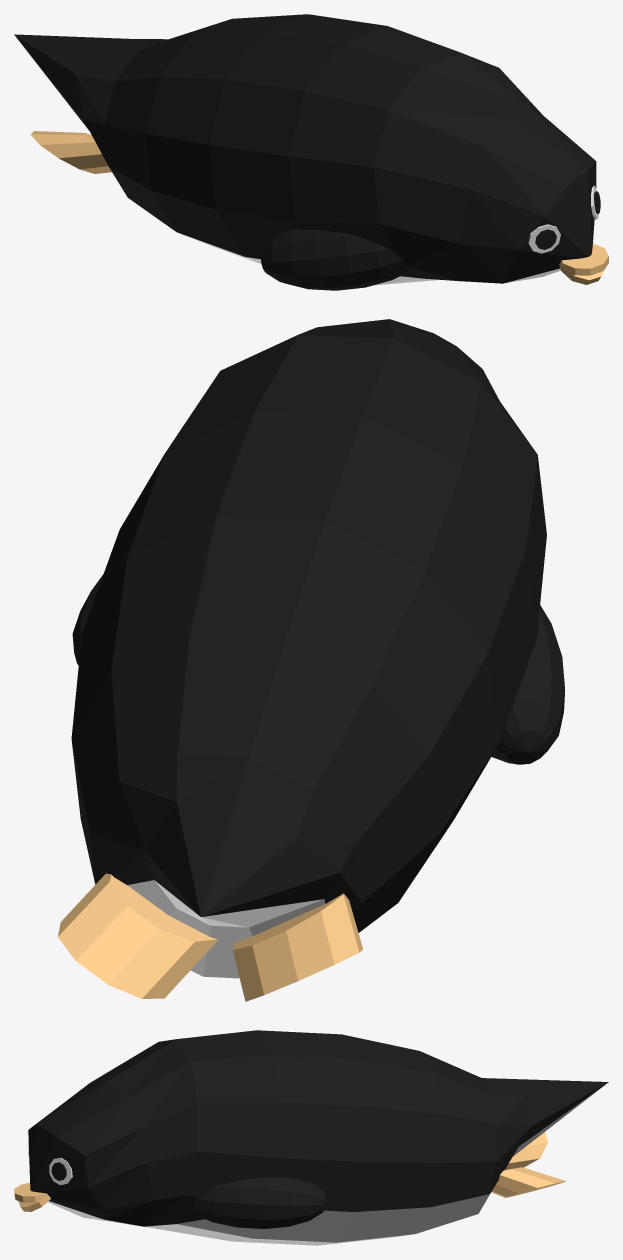
Rendered from penguin_lie.glb.
3 views of the same model, one above another, from view 1: azimuth 30°, elevation 25°; view 2: azimuth 150°, elevation 25°; view 3: azimuth 270°, elevation 25° (orthographic). The views are drawn at different scales.
Visible parts, largest first — view 1: group1727367588; view 2: group1727367588; view 3: group1727367588.
Boxes of the visible parts, bbox=[...] form: group1727367588: bbox=[14, 14, 608, 290]; group1727367588: bbox=[58, 319, 564, 1001]; group1727367588: bbox=[14, 1030, 608, 1245].
Bounding box in the file's own units: 0.4885 × 0.3898 × 1.
